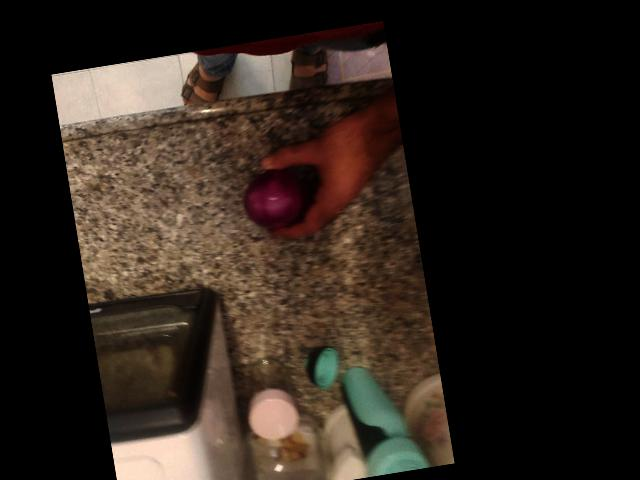onion: (238, 138, 332, 231)
